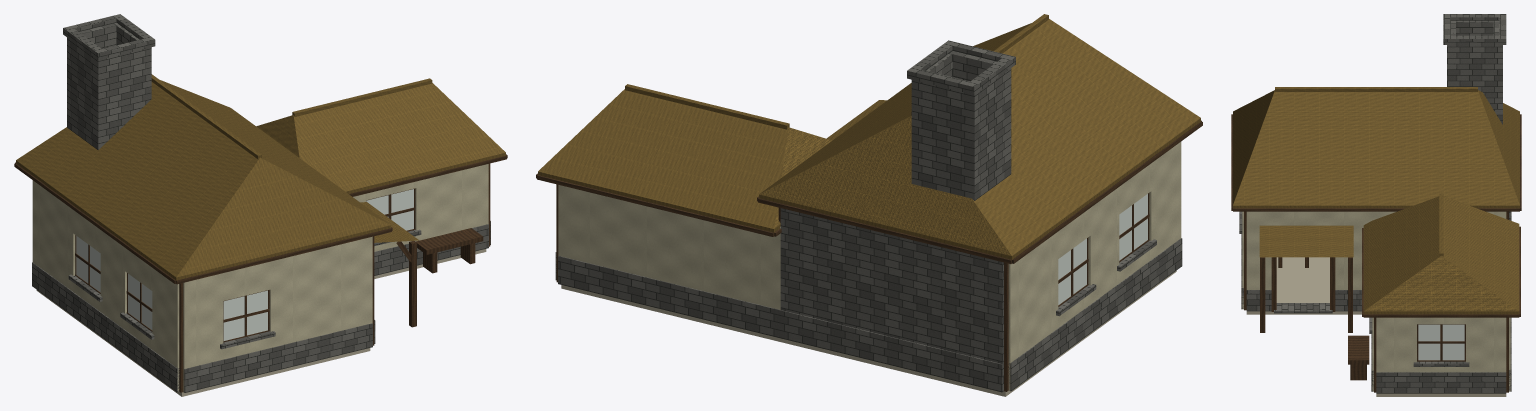
Rendered from kitchen-wings.glb.
The picture shows the model from 3 angles, left to right: view 1: azimuth 30°, elevation 25°; view 2: azimuth 150°, elevation 25°; view 3: azimuth 270°, elevation 25°; orthographic projection. The views are drawn at different scales.
Visible parts, largest first — view 1: Kitchen_Roof_0, Kitchen_Shell_0, Kitchen_Shell_1, Kitchen_Chimney_0, Kitchen_Glazing_0, Kitchen_Shell_2, Kitchen_Roof_1, Kitchen_Furnishings_0, Kitchen_Floor_0; view 2: Kitchen_Roof_0, Kitchen_Shell_1, Kitchen_Shell_0, Kitchen_Chimney_0, Kitchen_Roof_1, Kitchen_Glazing_0, Kitchen_Floor_0, Kitchen_Shell_2; view 3: Kitchen_Roof_0, Kitchen_Shell_0, Kitchen_Shell_1, Kitchen_Chimney_0, Kitchen_Floor_0, Kitchen_Shell_2, Kitchen_Roof_1, Kitchen_Glazing_0, Kitchen_Furnishings_0, Kitchen_Floor_1.
Part boxes in pixels (left/top/right/bottom): Kitchen_Roof_0: left=16, top=74, right=505, bottom=280; Kitchen_Shell_0: left=32, top=164, right=488, bottom=392; Kitchen_Shell_1: left=32, top=221, right=490, bottom=392; Kitchen_Chimney_0: left=63, top=14, right=155, bottom=149; Kitchen_Glazing_0: left=76, top=189, right=413, bottom=340; Kitchen_Shell_2: left=75, top=163, right=490, bottom=392; Kitchen_Roof_1: left=14, top=154, right=507, bottom=284; Kitchen_Furnishings_0: left=416, top=228, right=483, bottom=273; Kitchen_Floor_0: left=36, top=249, right=486, bottom=396; Kitchen_Roof_0: left=538, top=14, right=1200, bottom=259; Kitchen_Shell_1: left=555, top=208, right=1182, bottom=392; Kitchen_Shell_0: left=556, top=142, right=1181, bottom=390; Kitchen_Chimney_0: left=907, top=40, right=1015, bottom=200; Kitchen_Roof_1: left=536, top=120, right=1202, bottom=263; Kitchen_Glazing_0: left=1058, top=194, right=1147, bottom=304; Kitchen_Floor_0: left=561, top=270, right=1176, bottom=396; Kitchen_Shell_2: left=556, top=184, right=1149, bottom=391; Kitchen_Roof_0: left=1233, top=87, right=1519, bottom=314; Kitchen_Shell_0: left=1242, top=211, right=1510, bottom=391; Kitchen_Shell_1: left=1239, top=211, right=1511, bottom=393; Kitchen_Chimney_0: left=1443, top=14, right=1506, bottom=124; Kitchen_Floor_0: left=1246, top=257, right=1506, bottom=396; Kitchen_Shell_2: left=1244, top=211, right=1508, bottom=392; Kitchen_Roof_1: left=1231, top=114, right=1521, bottom=317; Kitchen_Glazing_0: left=1418, top=324, right=1464, bottom=360; Kitchen_Furnishings_0: left=1348, top=335, right=1369, bottom=380; Kitchen_Floor_1: left=1274, top=303, right=1332, bottom=313.
Bounding box in the file's own units: 12.92 × 7.8 × 8.94.
10 materials, 4 textured.
